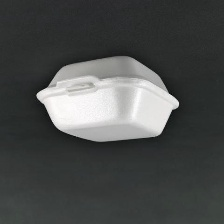foam_box: (30, 51, 184, 149)
